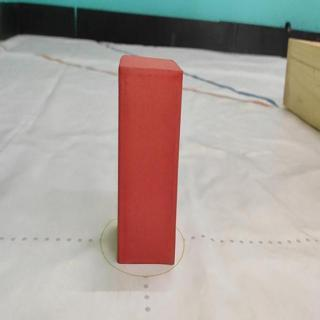redbox: (117, 54, 183, 265)
